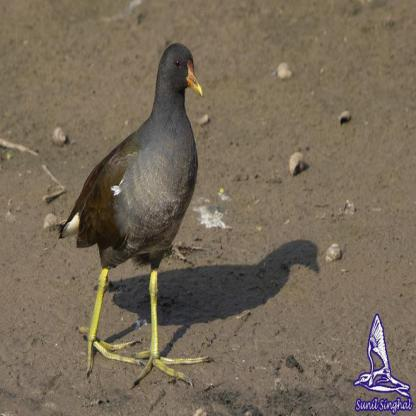Burung: (58, 43, 212, 387)
